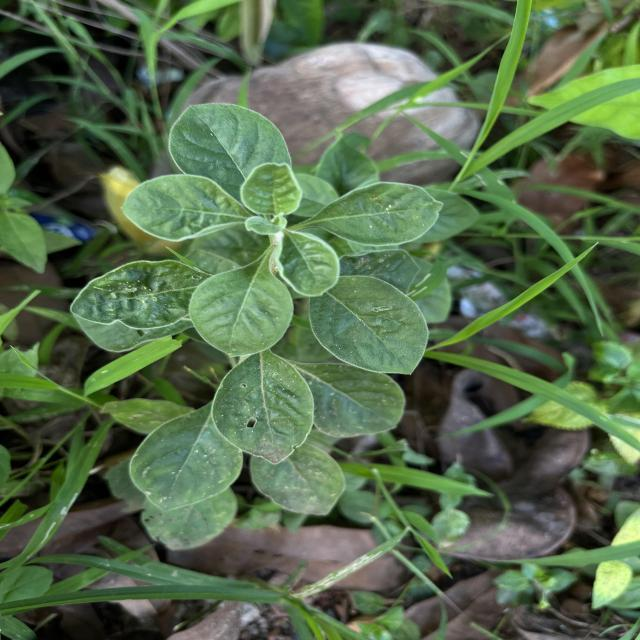Aerva lanata: (166, 101, 294, 215), (306, 273, 431, 377), (208, 348, 316, 466)
